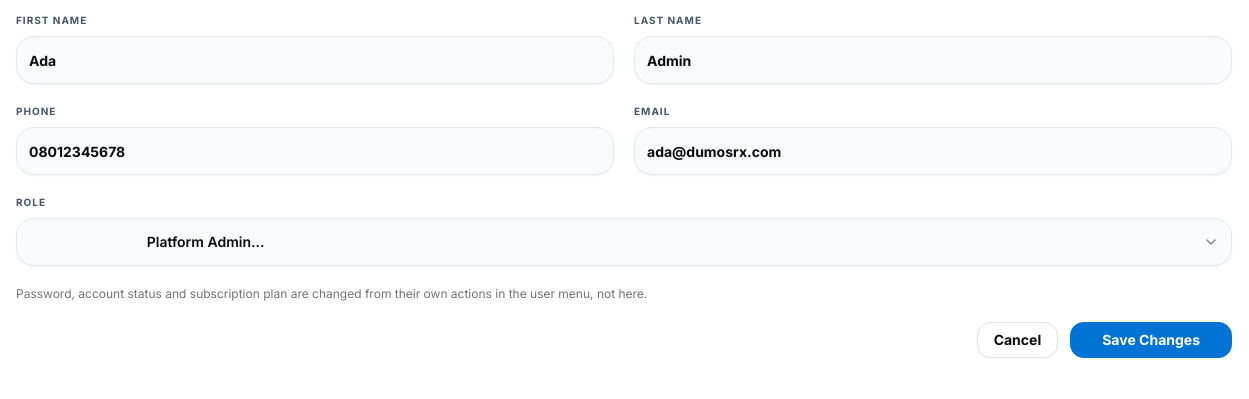
Test: UserProfileEditForm › blocks saving and shows an error for an invalid email
Replace the text in the field labelled "Email" with "bad" at (933, 151), box [634,127,1232,175]
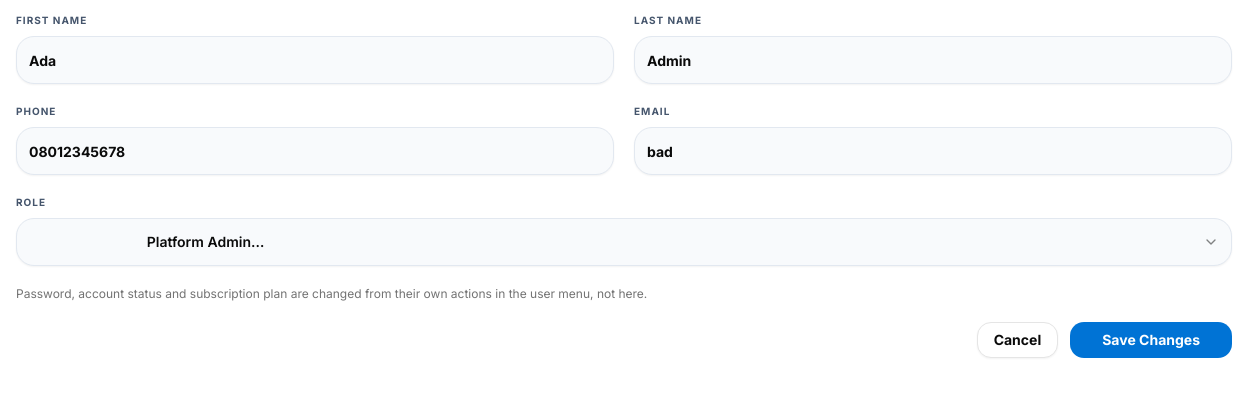
Click the button "Save Changes" at (1151, 340), box [1070,322,1232,358]
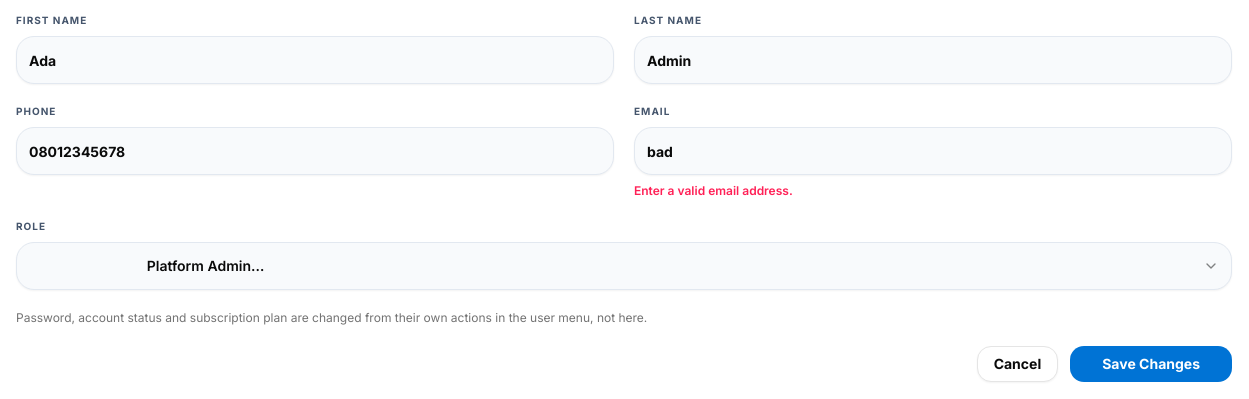
Check: the text "Enter a valid email address." is shown, box [634,183,793,198]
